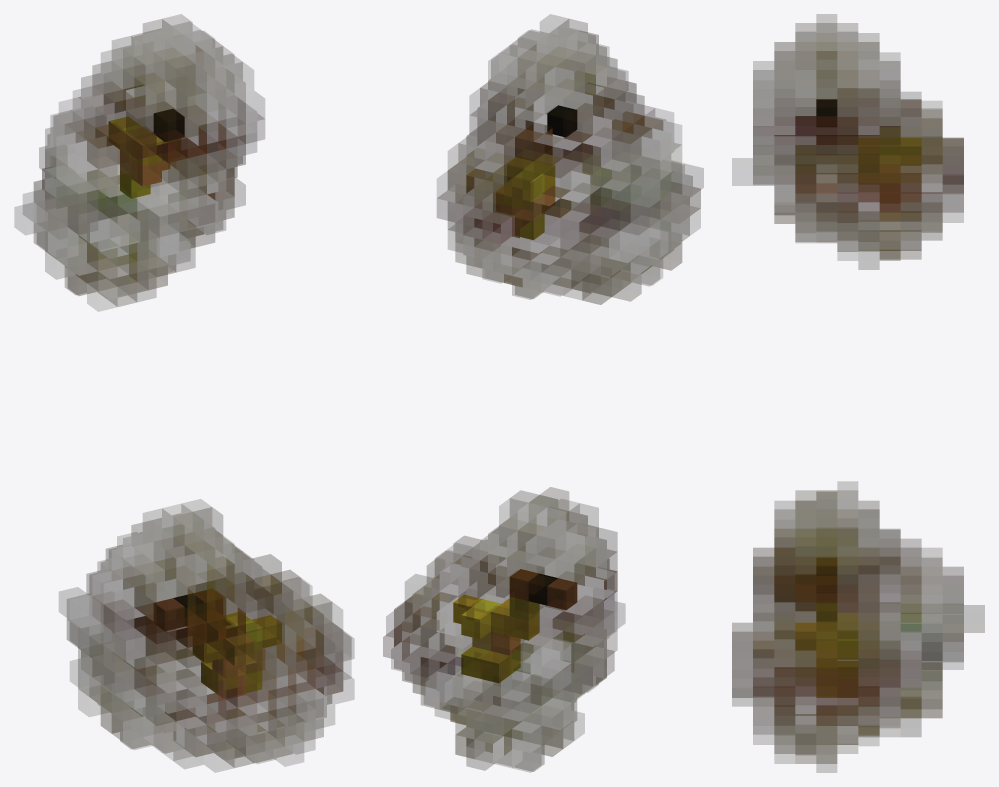
The model's file is iter_15.obj.
The picture shows the model from 3 angles, left to right: view 1: azimuth 30°, elevation 25°; view 2: azimuth 150°, elevation 25°; view 3: azimuth 270°, elevation 25°; orthographic projection. The views are drawn at different scales.
Visible parts, largest first — view 1: iter_15; view 2: iter_15; view 3: iter_15.
Boxes of the visible parts, <box> form: iter_15: <box>15,14,353,772</box>; iter_15: <box>383,14,703,772</box>; iter_15: <box>732,14,984,772</box>.
Bounding box in the file's own units: 1.5 × 3.6 × 1.2.
